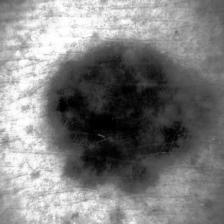Benign Marking or Mole: (49, 43, 211, 189)
